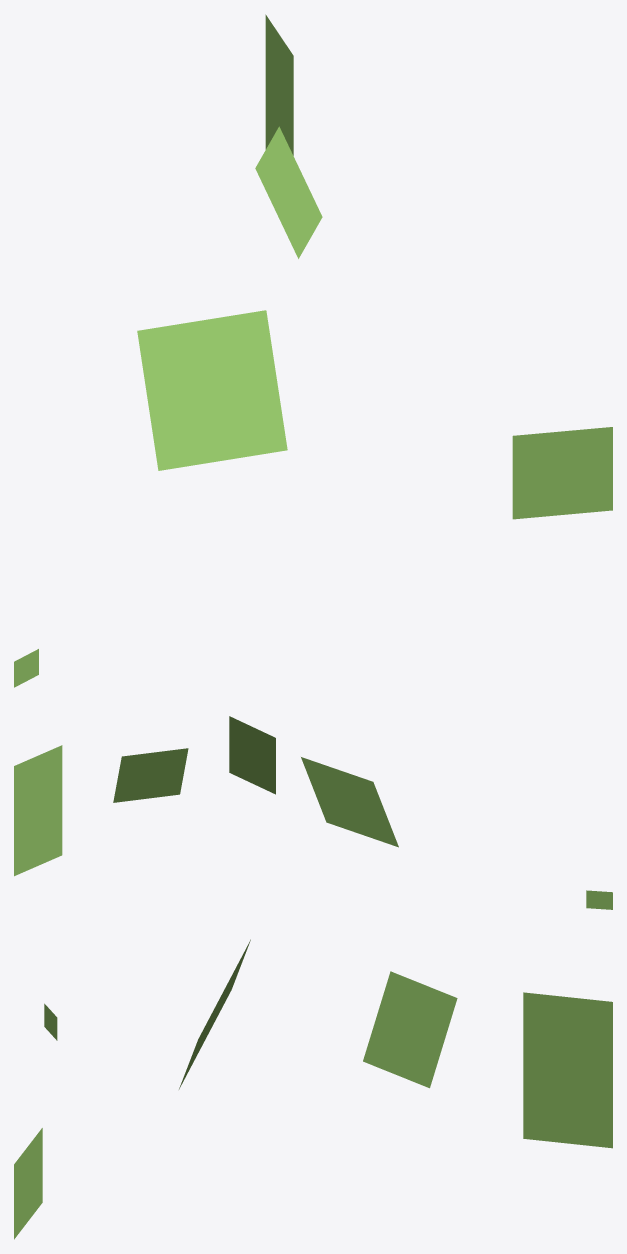
The model's file is mud_paneru_skurin_02.fbx.
3 views of the same model, one above another, from view 1: azimuth 30°, elevation 25°; view 2: azimuth 150°, elevation 25°; view 3: azimuth 270°, elevation 25° (orthographic). The views are drawn at different scales.
Visible parts, largest first — view 1: mud_paneru_skurin_02; view 2: mud_paneru_skurin_02; view 3: mud_paneru_skurin_02.
Part boxes in pixels (bbox=[...]): mud_paneru_skurin_02: bbox=[14, 14, 612, 687]; mud_paneru_skurin_02: bbox=[14, 716, 612, 909]; mud_paneru_skurin_02: bbox=[14, 939, 612, 1239].
Bounding box in the file's own units: 504 × 252 × 499.
1 material, 1 textured.
